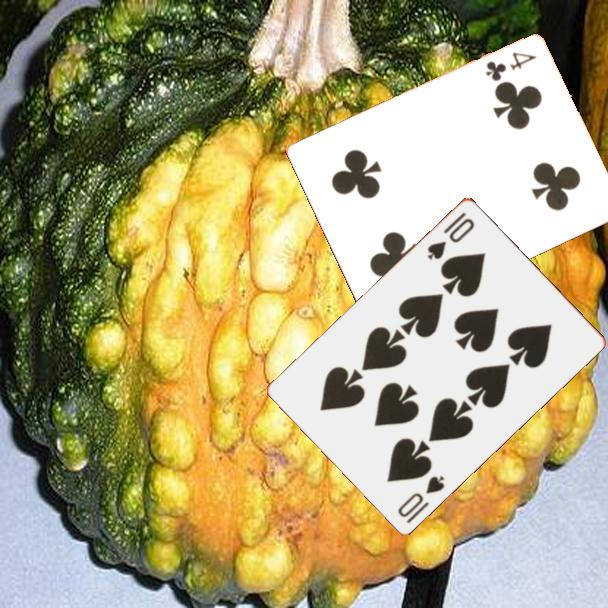c04: (481, 49, 540, 84)
s10: (423, 208, 478, 262), (394, 471, 448, 526)
